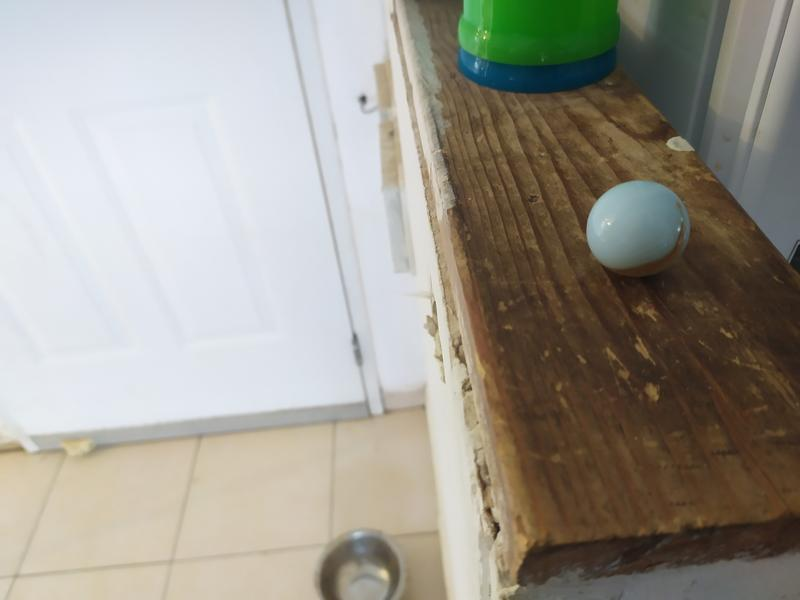Warning: (581, 176, 694, 281)
